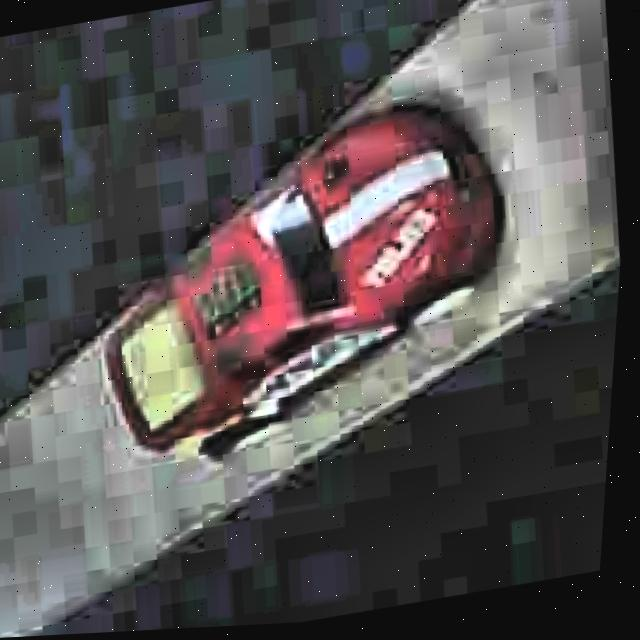car: (64, 81, 540, 486)
